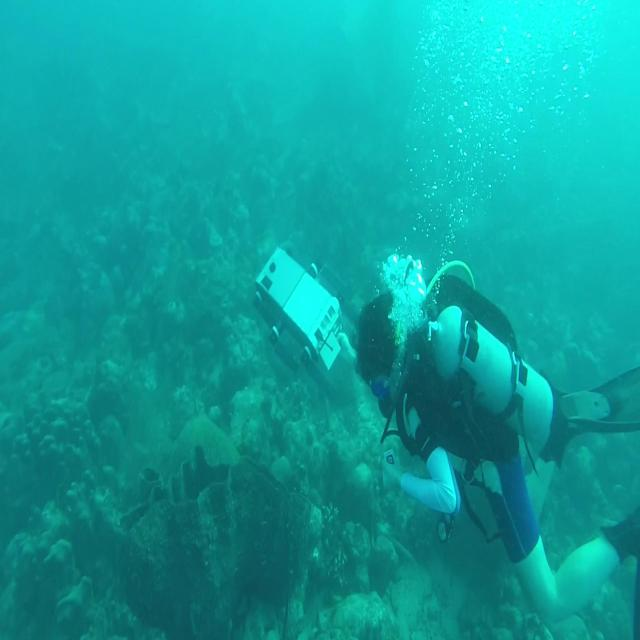human: (355, 257, 639, 632)
